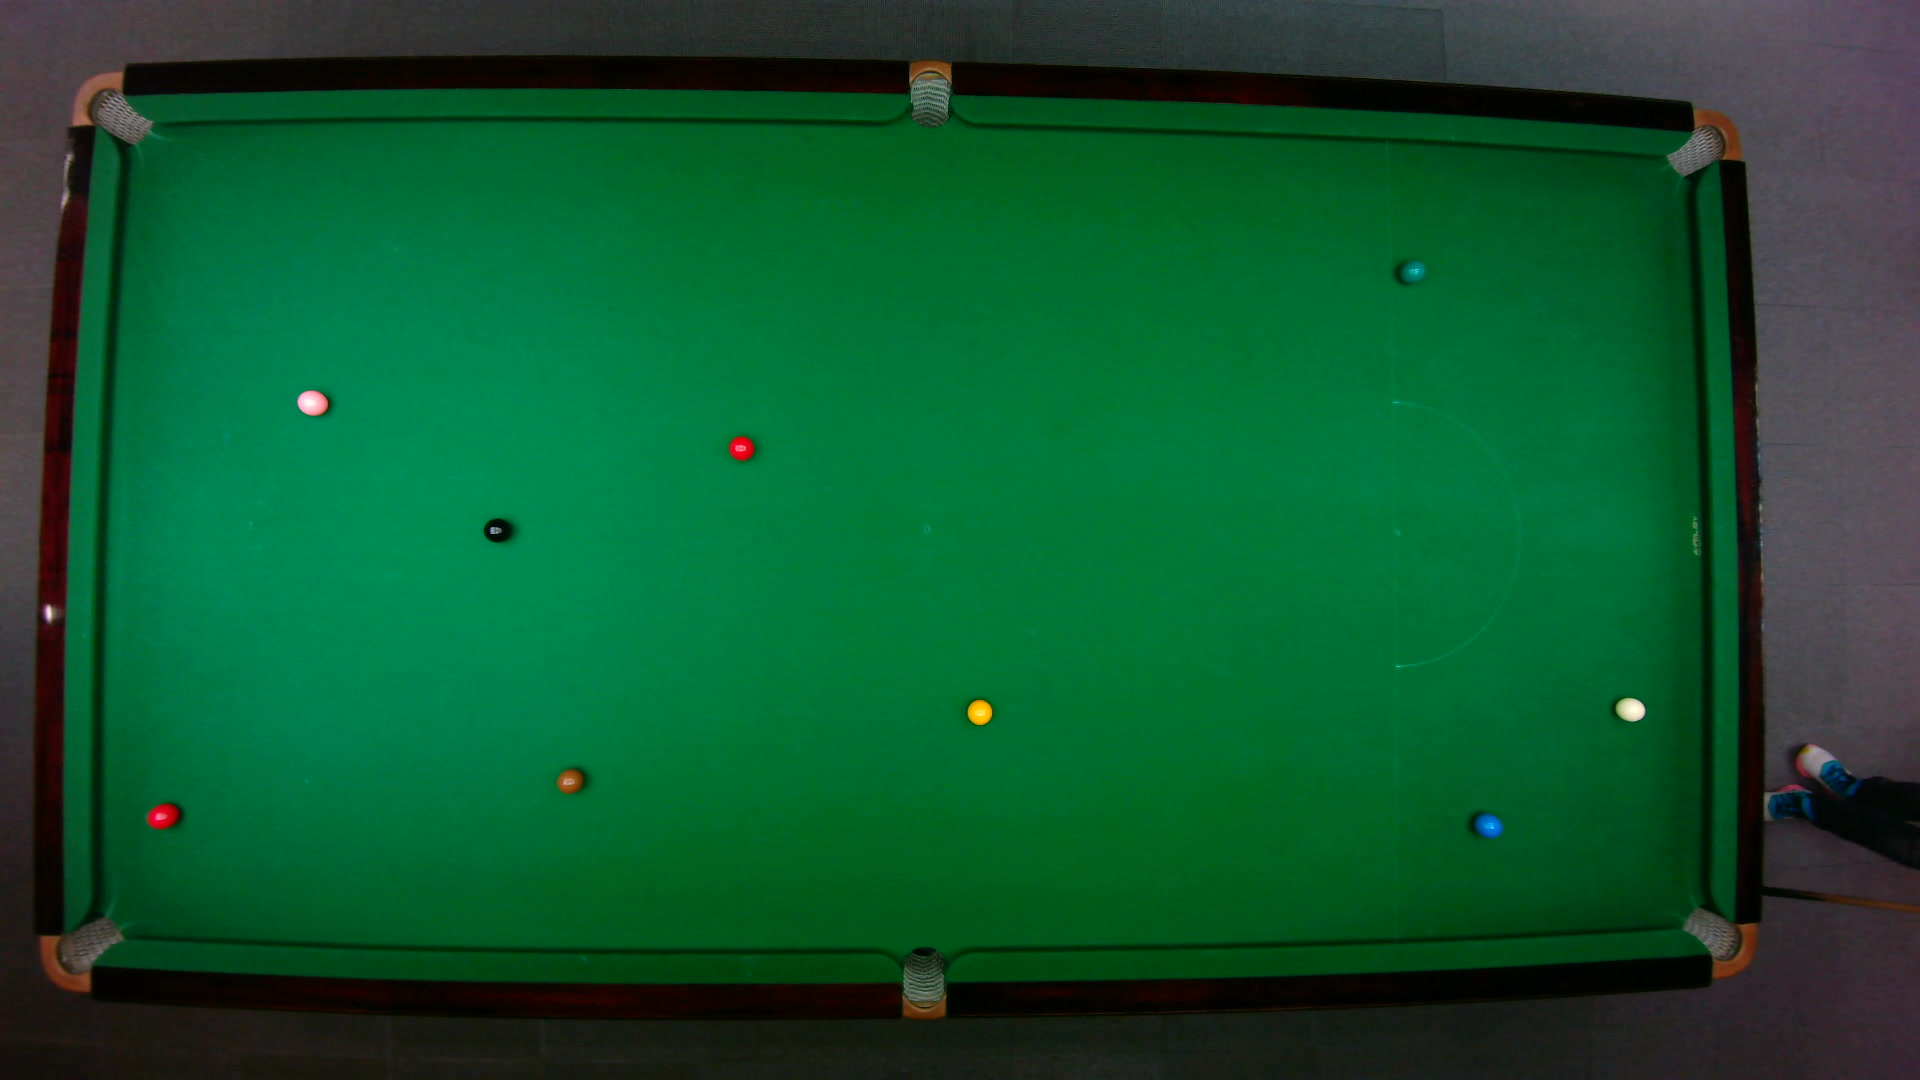bag: (37, 914, 125, 992), (69, 70, 152, 145), (1677, 905, 1756, 978), (1663, 107, 1742, 177), (901, 944, 944, 1021), (909, 57, 949, 128)
black: (483, 516, 512, 543)
blue: (1472, 811, 1503, 837)
brown: (555, 766, 584, 794)
green: (1396, 258, 1425, 284)
pink: (294, 386, 328, 415)
red: (144, 800, 179, 829), (727, 433, 756, 462)
white: (1611, 695, 1646, 721)
yellow: (965, 696, 993, 727)
zone: (1390, 400, 1520, 669)
